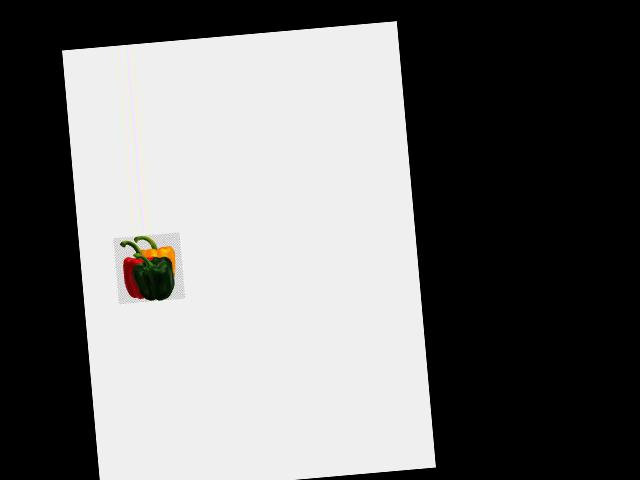bell_pepper: (113, 237, 156, 302)
